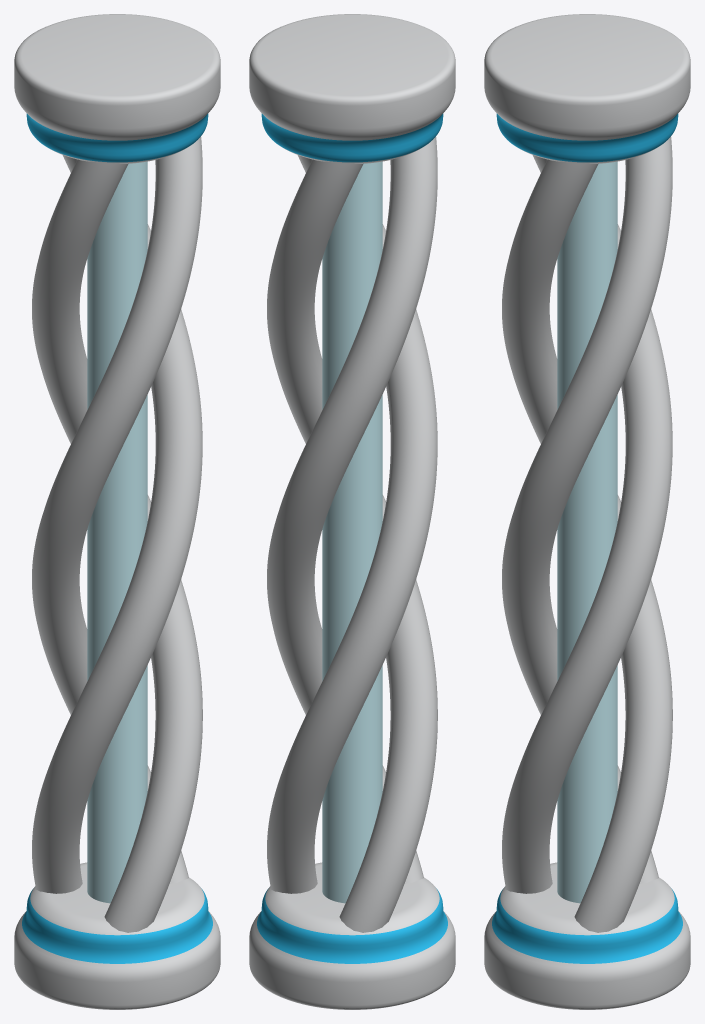
Rendered from Pillar_D06_TriStrandSpiral.fbx.
The picture shows the model from 3 angles, left to right: view 1: azimuth 30°, elevation 25°; view 2: azimuth 150°, elevation 25°; view 3: azimuth 270°, elevation 25°; orthographic projection.
Visible parts, largest first — view 1: Pillar_D06_TriStrandSpiral; view 2: Pillar_D06_TriStrandSpiral; view 3: Pillar_D06_TriStrandSpiral.
Part boxes in pixels (x1=…): Pillar_D06_TriStrandSpiral: x1=14, y1=14, x2=220, y2=1009; Pillar_D06_TriStrandSpiral: x1=249, y1=14, x2=455, y2=1009; Pillar_D06_TriStrandSpiral: x1=484, y1=14, x2=690, y2=1009.
Bounding box in the file's own units: 0.82 × 4 × 0.82.
